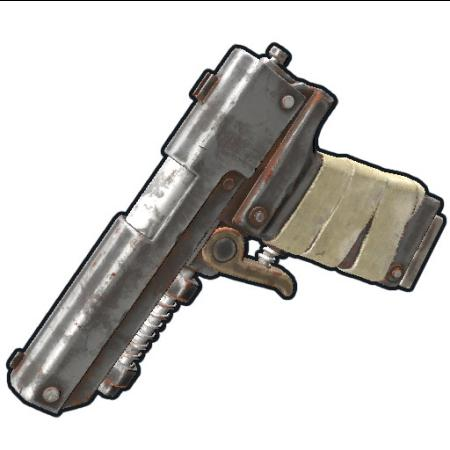Pistol: (5, 52, 438, 416)
